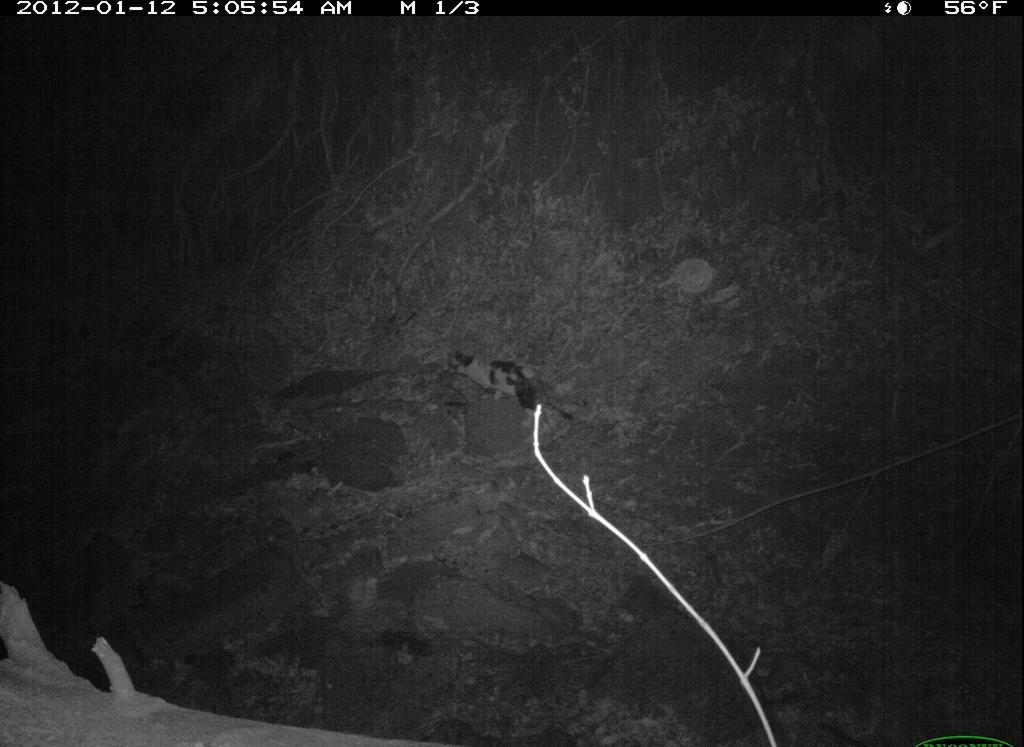cat: (432, 328, 582, 432)
